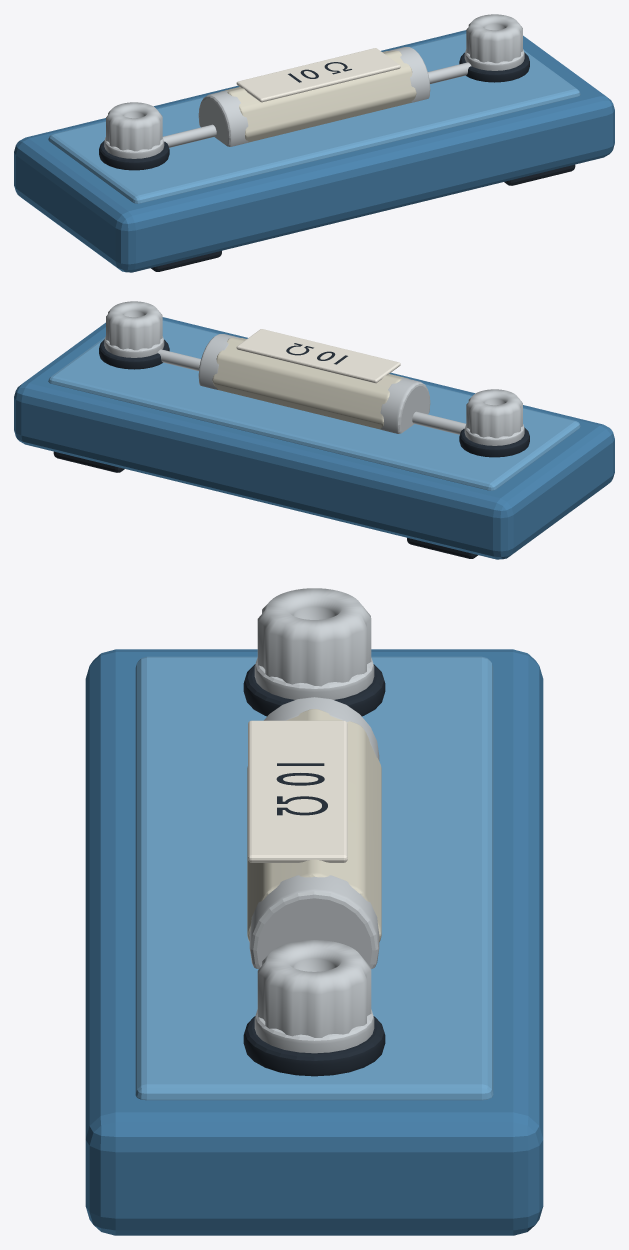
Rendered from fixed-resistor.glb.
The picture shows the model from 3 angles, top to bottom: view 1: azimuth 30°, elevation 25°; view 2: azimuth 150°, elevation 25°; view 3: azimuth 270°, elevation 25°; orthographic projection. The views are drawn at different scales.
Parts seen in each view (by area): view 1: Resistor insulated plinth, Insulated carrier inset, Ceramic resistance body, Rating patch, p binding socket, n binding socket, Metal end cap, Resistor lead, Metal end cap.001, p socket washer, n socket washer, p socket foot (+3 smaller); view 2: Resistor insulated plinth, Insulated carrier inset, Ceramic resistance body, Rating patch, n binding socket, p binding socket, Metal end cap, Resistor lead, Metal end cap.001, p socket washer, n socket washer, p socket foot (+3 smaller); view 3: Resistor insulated plinth, Insulated carrier inset, Rating patch, p binding socket, n binding socket, Ceramic resistance body, Metal end cap.001, n socket washer, n socket foot, p socket foot, p socket washer, Metal end cap (+1 smaller).
Boxes of the visible parts, x1=… form: Resistor insulated plinth: x1=14, y1=30, x2=614, y2=272; Insulated carrier inset: x1=48, y1=33, x2=580, y2=203; Ceramic resistance body: x1=220, y1=50, x2=416, y2=142; Rating patch: x1=236, y1=48, x2=400, y2=102; p binding socket: x1=106, y1=102, x2=162, y2=151; n binding socket: x1=466, y1=14, x2=522, y2=63; Metal end cap: x1=198, y1=91, x2=248, y2=146; Resistor lead: x1=163, y1=62, x2=471, y2=147; Metal end cap.001: x1=388, y1=47, x2=430, y2=102; p socket washer: x1=99, y1=140, x2=169, y2=170; n socket washer: x1=459, y1=52, x2=529, y2=82; p socket foot: x1=104, y1=137, x2=164, y2=158; Resistor insulated plinth: x1=14, y1=317, x2=614, y2=559; Insulated carrier inset: x1=48, y1=320, x2=580, y2=490; Ceramic resistance body: x1=212, y1=337, x2=408, y2=429; Rating patch: x1=236, y1=329, x2=400, y2=383; n binding socket: x1=106, y1=301, x2=162, y2=350; p binding socket: x1=466, y1=389, x2=522, y2=438; Metal end cap: x1=380, y1=378, x2=430, y2=433; Resistor lead: x1=157, y1=349, x2=465, y2=434; Metal end cap.001: x1=198, y1=334, x2=240, y2=389; p socket washer: x1=459, y1=427, x2=529, y2=457; n socket washer: x1=99, y1=339, x2=169, y2=369; p socket foot: x1=464, y1=424, x2=524, y2=445; Resistor insulated plinth: x1=85, y1=649, x2=543, y2=1235; Insulated carrier inset: x1=135, y1=656, x2=493, y2=1100; Rating patch: x1=248, y1=720, x2=347, y2=862; p binding socket: x1=257, y1=588, x2=371, y2=686; n binding socket: x1=257, y1=940, x2=371, y2=1037; Ceramic resistance body: x1=247, y1=709, x2=381, y2=941; Metal end cap.001: x1=249, y1=875, x2=379, y2=969; n socket washer: x1=243, y1=1016, x2=385, y2=1076; n socket foot: x1=254, y1=1009, x2=374, y2=1053; p socket foot: x1=254, y1=658, x2=374, y2=699; p socket washer: x1=243, y1=664, x2=385, y2=716; Metal end cap: x1=264, y1=697, x2=379, y2=760.
Bounding box in the file's own units: 0.138 × 0.031 × 0.055.
